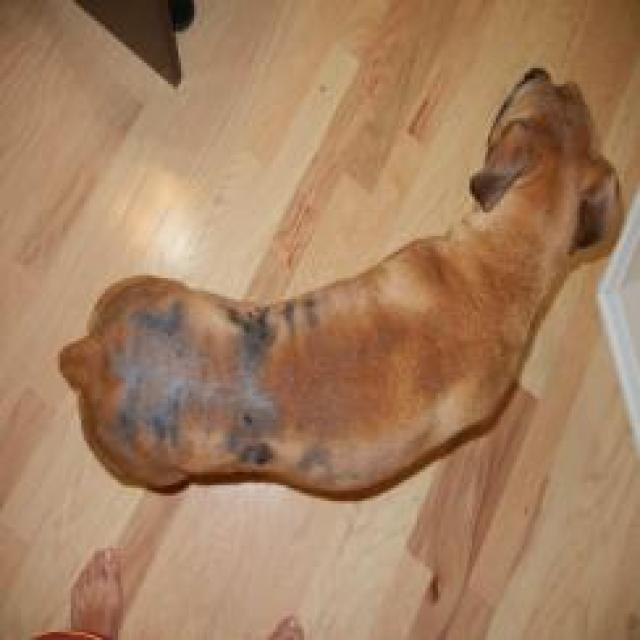fungal infection: (97, 282, 355, 487)
